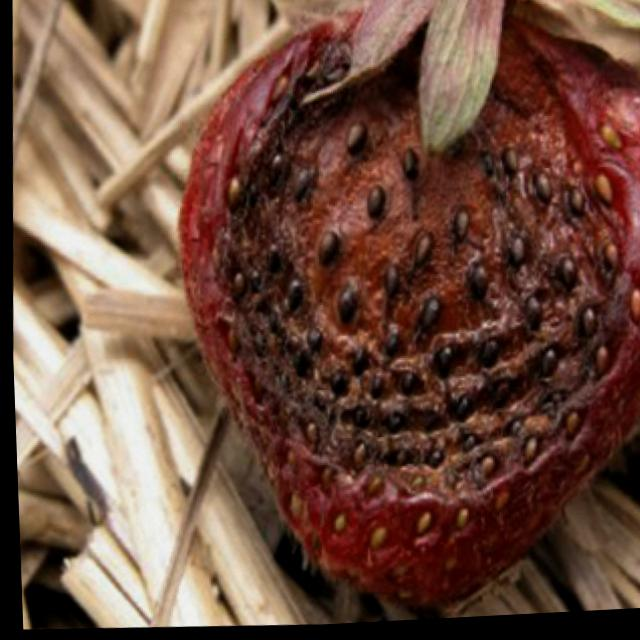Anthracnose Fruit Rot: (196, 16, 640, 502)
